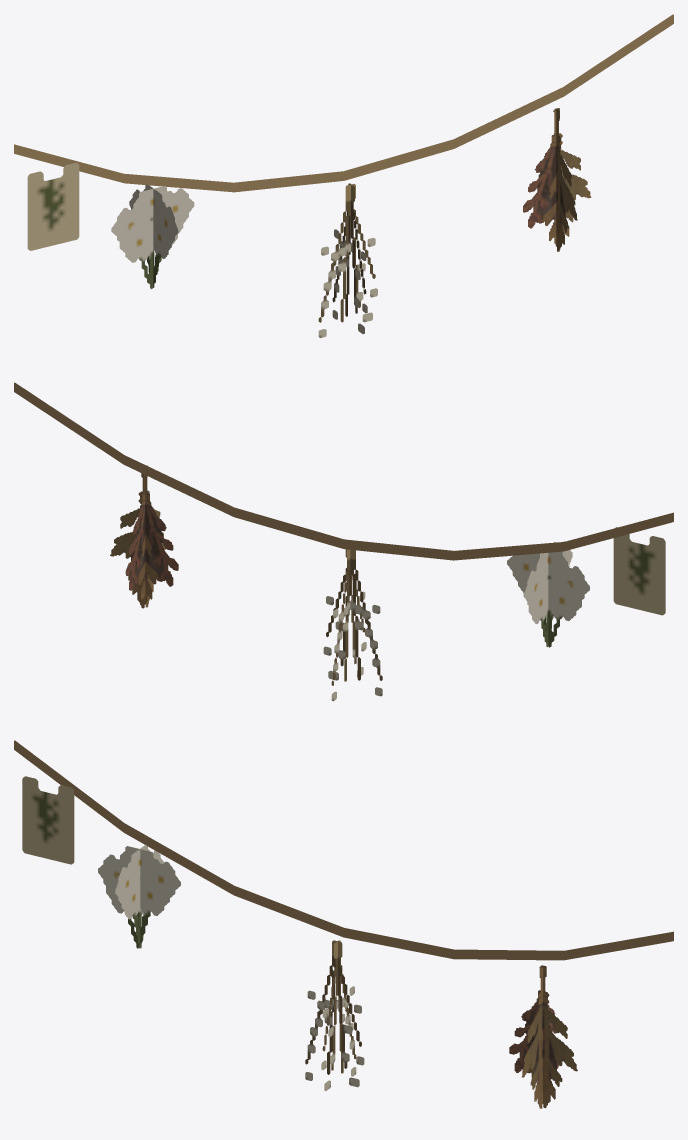
The model's file is SM_HerbGarland.fbx.
3 renders of one model, top to bottom at view 1: azimuth 30°, elevation 25°; view 2: azimuth 150°, elevation 25°; view 3: azimuth 330°, elevation 25°, orthographic.
Visible parts, largest first — view 1: HerbGarland_Bunches, HerbGarland_Cord; view 2: HerbGarland_Bunches, HerbGarland_Cord; view 3: HerbGarland_Bunches, HerbGarland_Cord.
Boxes of the visible parts, box(x1,y1,x2,y2) form: HerbGarland_Bunches: box(27, 108, 591, 337); HerbGarland_Cord: box(14, 14, 673, 192); HerbGarland_Bunches: box(110, 465, 665, 701); HerbGarland_Cord: box(14, 382, 673, 560); HerbGarland_Bunches: box(22, 776, 577, 1108); HerbGarland_Cord: box(14, 740, 673, 960).
Size of the model in its own units: 0.9 by 0.351 by 0.12.
